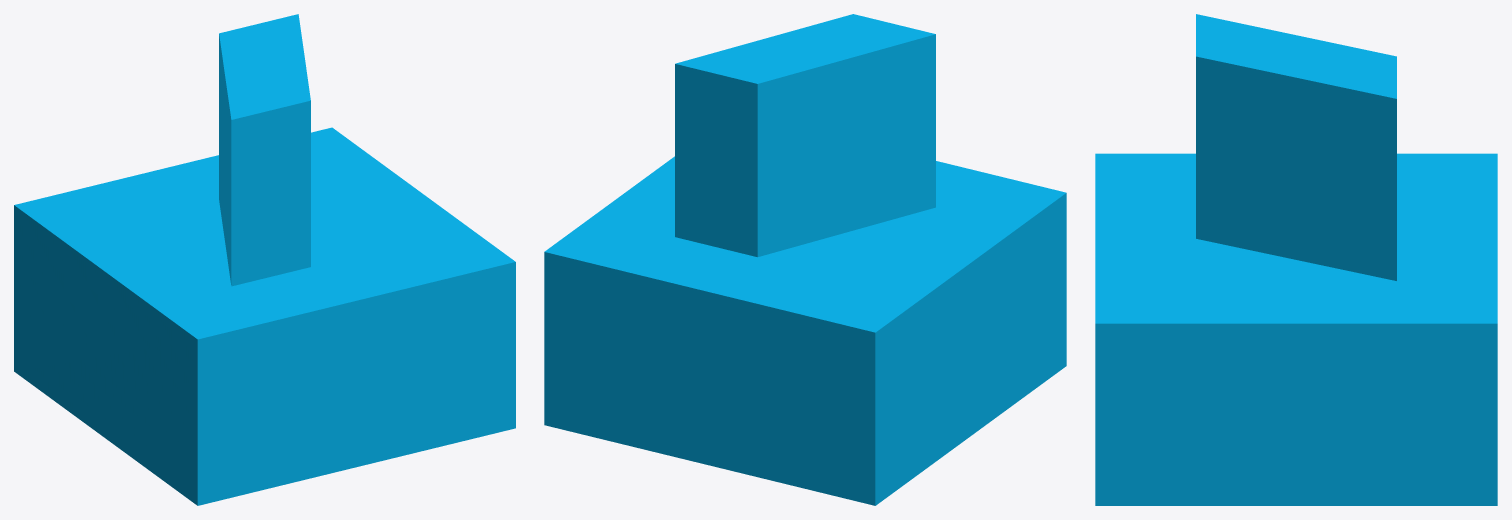
File: union-1.gltf
3 renders of one model, left to right at view 1: azimuth 30°, elevation 25°; view 2: azimuth 150°, elevation 25°; view 3: azimuth 270°, elevation 25°, orthographic. The views are drawn at different scales.
Parts seen in each view (by area): view 1: Gövde; view 2: Gövde; view 3: Gövde.
Part boxes in pixels (x1=…): Gövde: x1=14, y1=14, x2=515, y2=505; Gövde: x1=544, y1=14, x2=1066, y2=505; Gövde: x1=1095, y1=14, x2=1497, y2=505.
Bounding box in the file's own units: 0.02 × 0.02 × 0.02.
